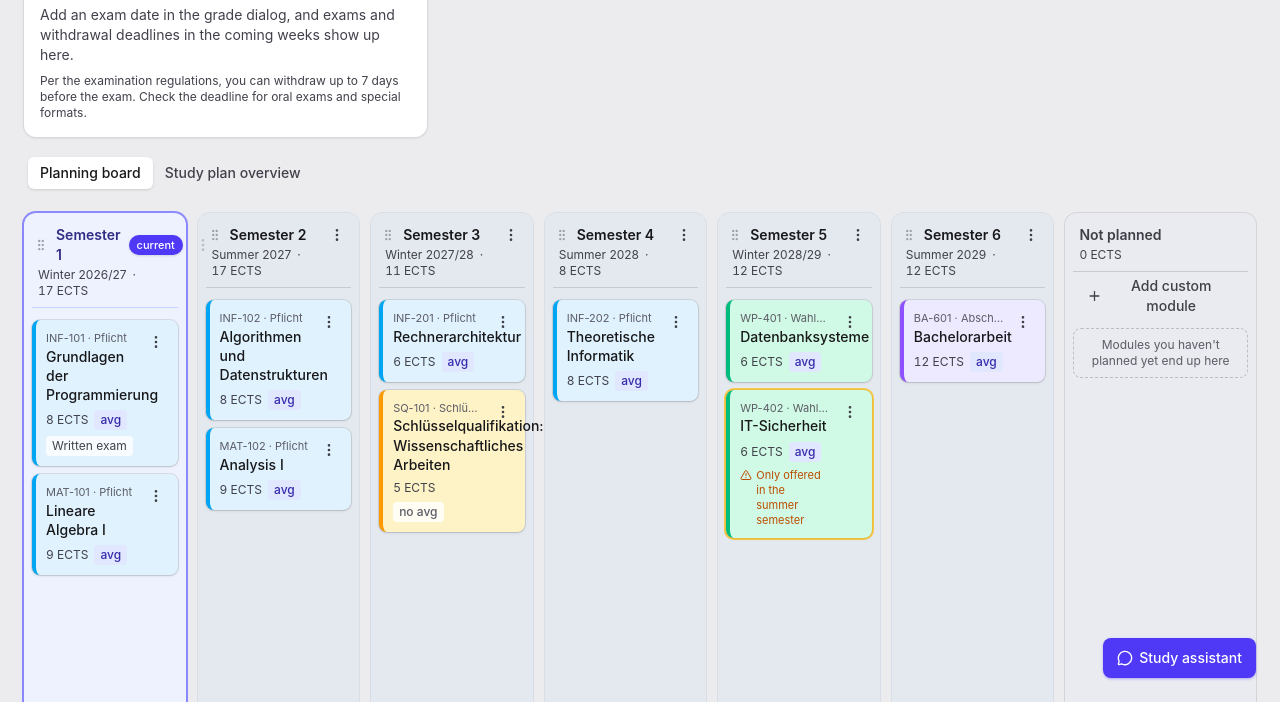
Test: module details dialog › uses English labels
This screenshot has width=1280, height=702.
(page scrolled)
Step 1. Click the button named "Actions for Grundlagen der Programmierung" → (156, 342), box left=140, top=326, right=172, bottom=358
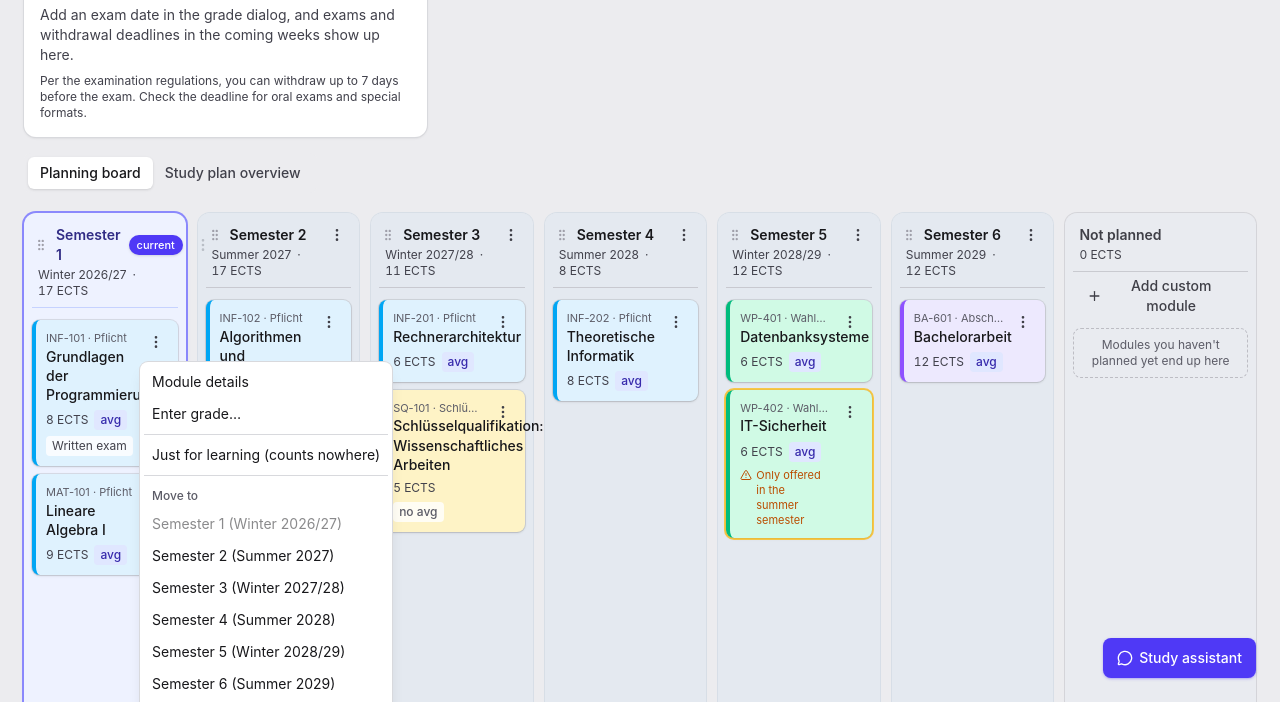
Step 2. Click the menu item "Module details" → (200, 382), box left=152, top=373, right=249, bottom=390
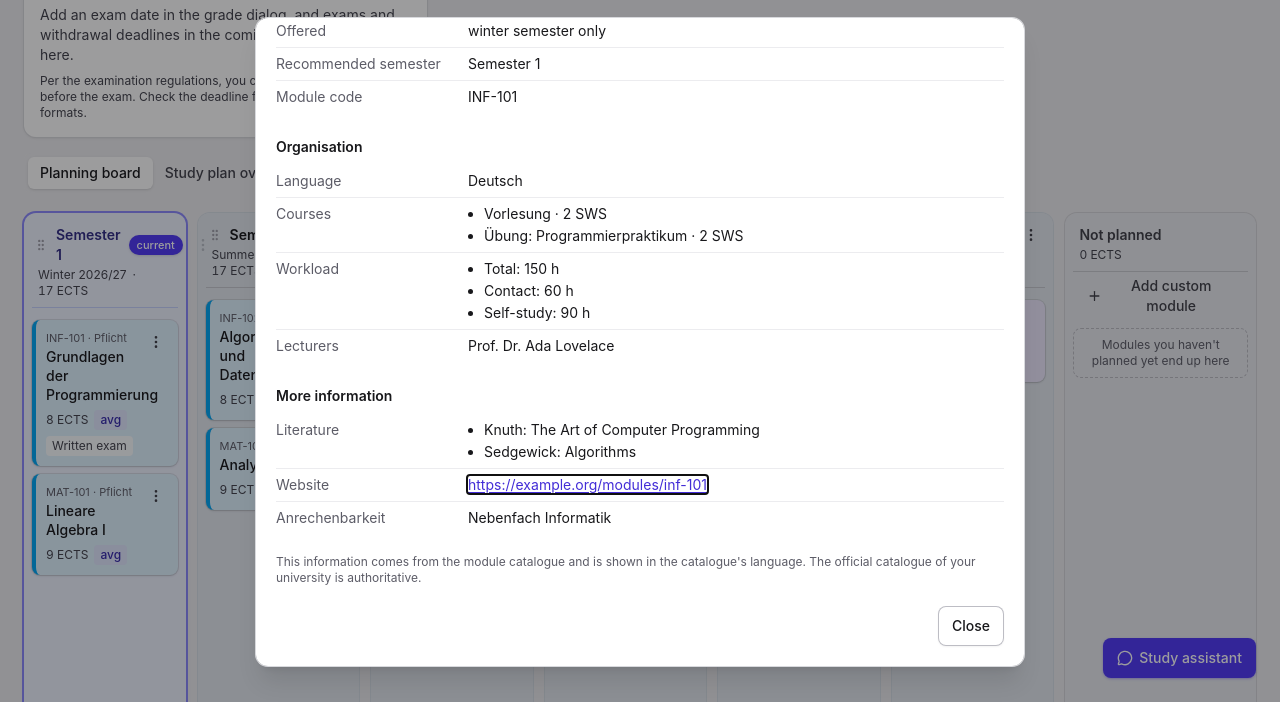
Check: the element showing "Prof. Dr. Ada Lovelace" is shown, box left=468, top=336, right=614, bottom=354
Check: the button "Close" is shown, box left=938, top=606, right=1004, bottom=646
